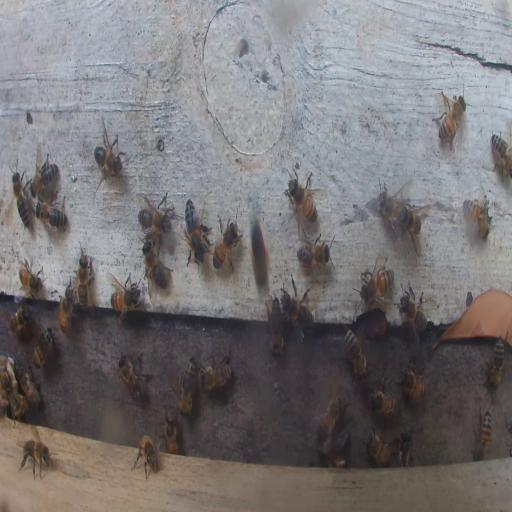bee: (433, 89, 468, 148), (396, 284, 430, 340), (213, 212, 242, 277), (248, 214, 271, 293), (182, 198, 209, 264), (93, 128, 124, 184), (118, 352, 152, 402), (376, 183, 410, 233), (18, 434, 54, 480), (395, 199, 425, 253), (141, 240, 172, 292), (172, 357, 198, 415), (281, 290, 314, 335), (287, 173, 317, 222), (138, 192, 172, 234), (315, 396, 344, 444), (297, 234, 333, 272), (198, 353, 233, 392), (359, 264, 393, 304), (368, 376, 400, 418), (31, 150, 58, 198), (131, 434, 159, 480), (110, 276, 140, 318), (12, 169, 32, 231), (76, 244, 94, 310), (36, 195, 67, 233), (471, 405, 492, 461), (344, 329, 367, 379), (464, 197, 490, 239), (490, 132, 512, 180), (266, 300, 284, 358), (487, 335, 505, 392), (17, 365, 42, 406), (365, 428, 391, 466), (402, 364, 425, 404), (33, 326, 54, 367), (19, 263, 44, 297), (396, 428, 416, 468), (162, 411, 179, 456), (8, 304, 31, 336), (59, 286, 74, 334), (1, 358, 15, 402), (8, 394, 28, 422), (331, 425, 350, 450), (325, 454, 347, 469)
